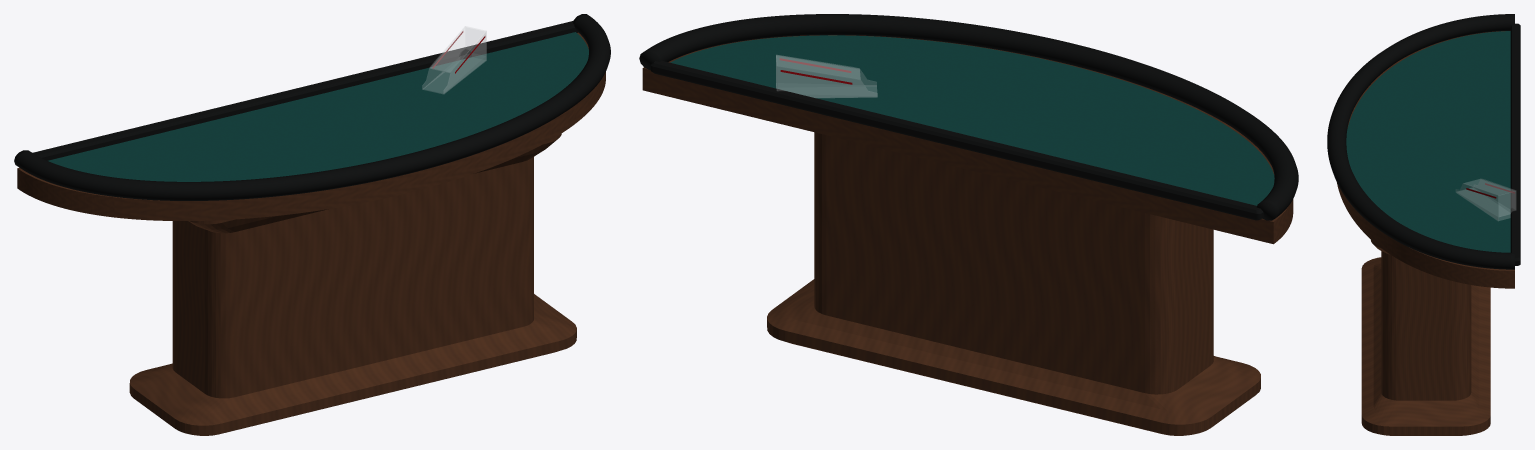
Rendered from table.glb.
3 renders of one model, left to right at view 1: azimuth 30°, elevation 25°; view 2: azimuth 150°, elevation 25°; view 3: azimuth 270°, elevation 25°, orthographic. The views are drawn at different scales.
Parts seen in each view (by area): view 1: PRP_WalnutBase, HERO_TableFelt, HERO_TableRail, PRP_WalnutApron, PRP_DealerEdge, PRP_Shoe; view 2: PRP_WalnutBase, HERO_TableFelt, HERO_TableRail, PRP_WalnutApron, PRP_DealerEdge, PRP_Shoe; view 3: HERO_TableFelt, PRP_WalnutBase, HERO_TableRail, PRP_WalnutApron, PRP_DealerEdge, PRP_Shoe.
Part boxes in pixels (x1,y1,x2,y2): PRP_WalnutBase: [129, 133, 576, 435]; HERO_TableFelt: [48, 32, 588, 181]; HERO_TableRail: [14, 14, 610, 200]; PRP_WalnutApron: [17, 32, 605, 220]; PRP_DealerEdge: [32, 21, 577, 160]; PRP_Shoe: [422, 26, 486, 93]; PRP_WalnutBase: [767, 132, 1260, 435]; HERO_TableFelt: [670, 35, 1274, 205]; HERO_TableRail: [639, 14, 1298, 220]; PRP_WalnutApron: [642, 35, 1293, 244]; PRP_DealerEdge: [650, 60, 1263, 220]; PRP_Shoe: [776, 55, 877, 97]; HERO_TableFelt: [1346, 31, 1510, 252]; PRP_WalnutBase: [1361, 239, 1490, 435]; HERO_TableRail: [1327, 14, 1514, 269]; PRP_WalnutApron: [1337, 31, 1514, 288]; PRP_DealerEdge: [1510, 23, 1520, 265]; PRP_Shoe: [1456, 179, 1516, 220].
Size of the model in its own units: 1.95 by 0.8559 by 0.645.
Materials: 4 (3 with a texture image).
